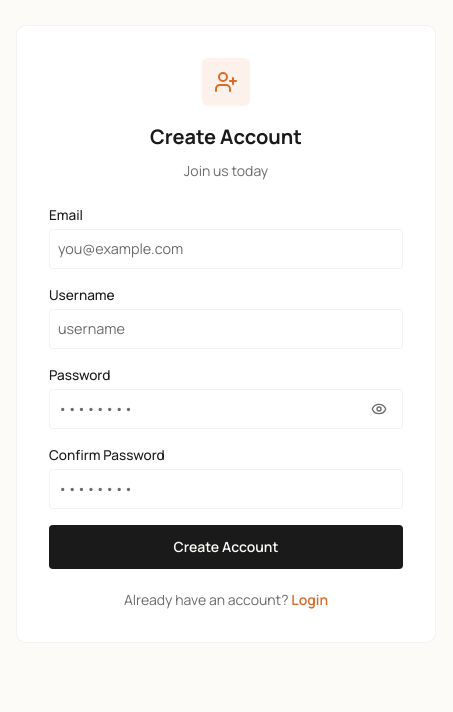
RegisterPage › shows password mismatch error
In the field with placeholder "you@example.com": (226, 249) left=49, top=230, right=403, bottom=269, type "test@test.com"
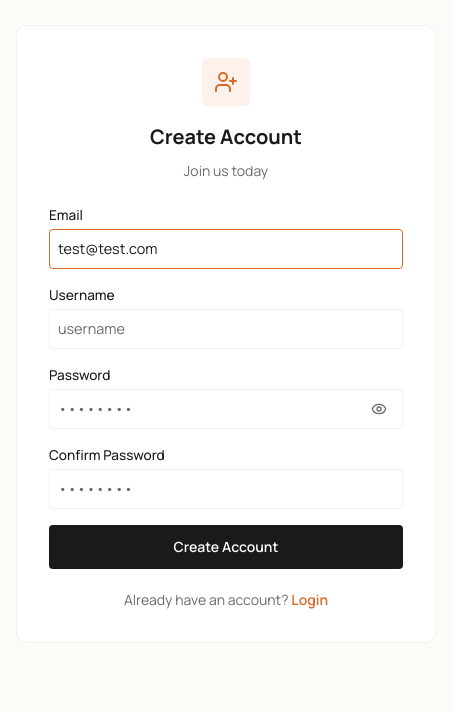
In the field with placeholder "username": (226, 329) left=49, top=309, right=403, bottom=349, type "tester"
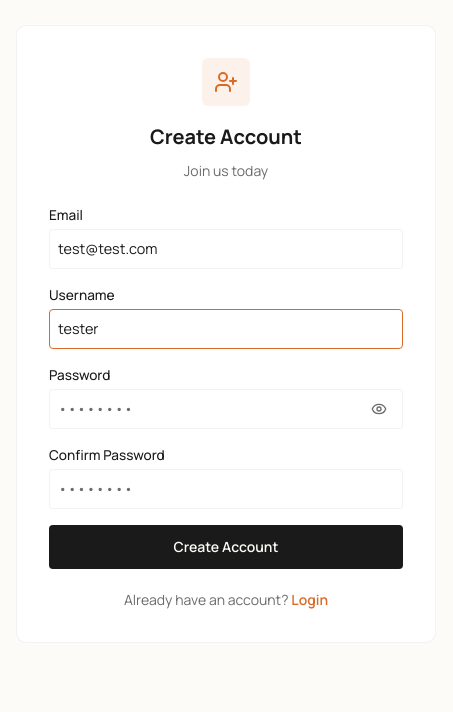
In the 1st password field with placeholder "••••••••": (226, 409) left=49, top=389, right=403, bottom=429, type "pass123"
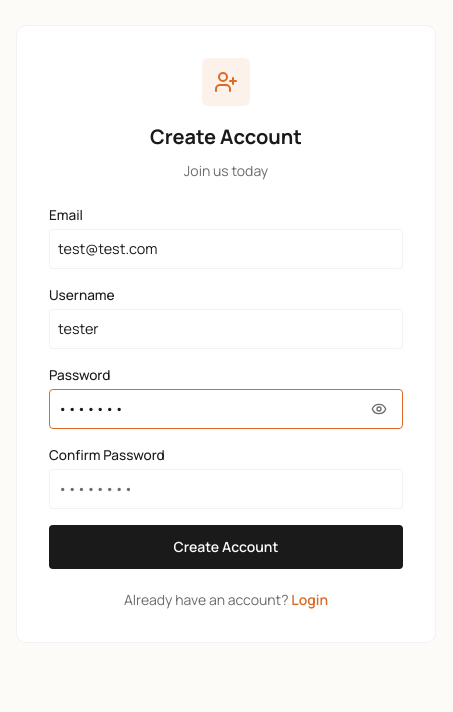
In the password field with placeholder "••••••••": (226, 489) left=49, top=469, right=403, bottom=509, type "pass456"
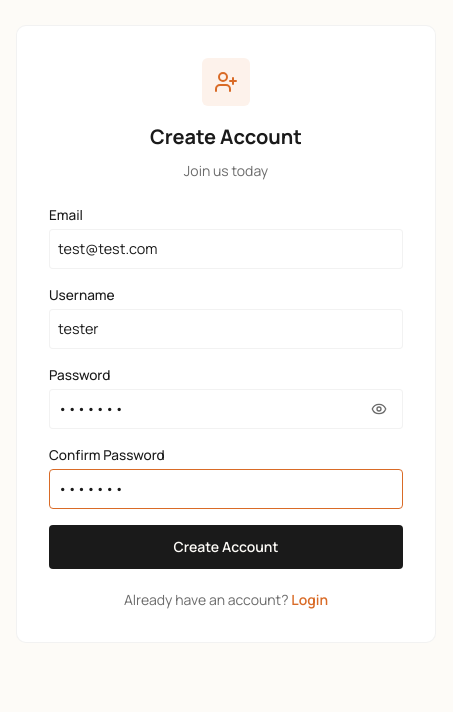
Click the button "Create Account": (226, 547) left=49, top=525, right=403, bottom=569
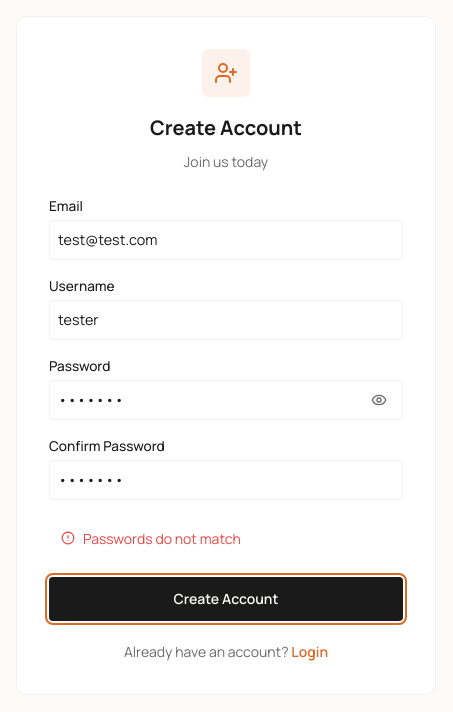
Result: the text "Passwords do not match" is shown at left=61, top=529, right=241, bottom=548
